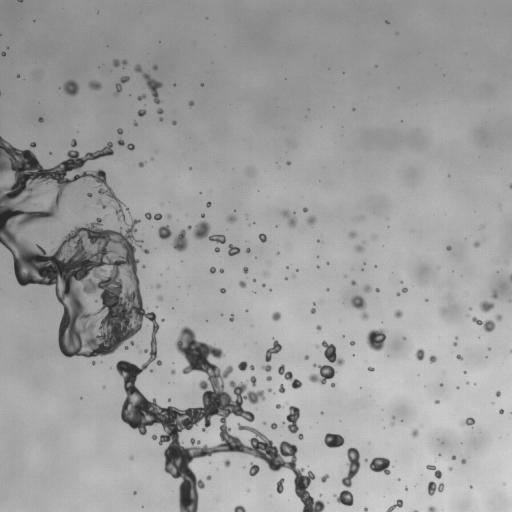droplet: (308, 340, 344, 384), (193, 219, 225, 243), (366, 329, 386, 351), (265, 338, 282, 362), (369, 457, 390, 474), (324, 433, 344, 447), (62, 80, 79, 96), (281, 210, 297, 227), (427, 481, 444, 495), (158, 225, 171, 239), (238, 361, 254, 371), (480, 301, 494, 312), (249, 462, 259, 476), (228, 244, 239, 255), (276, 478, 284, 493), (88, 80, 101, 89), (461, 417, 474, 426), (415, 348, 424, 360), (306, 215, 315, 225), (272, 312, 281, 321), (227, 215, 236, 223), (258, 233, 266, 242), (249, 376, 256, 386), (234, 505, 245, 511), (363, 284, 371, 292), (394, 310, 402, 318), (223, 459, 231, 467), (321, 474, 329, 482), (137, 109, 146, 116), (262, 364, 271, 371), (126, 143, 134, 150), (355, 245, 363, 252), (238, 280, 246, 287), (429, 355, 436, 363), (209, 266, 216, 273), (137, 94, 145, 100), (279, 385, 285, 393), (412, 429, 418, 437), (349, 231, 356, 237), (270, 423, 277, 429), (492, 290, 497, 298), (428, 506, 436, 511), (157, 108, 163, 114), (118, 139, 124, 145), (248, 167, 254, 173), (473, 241, 479, 247), (38, 117, 44, 122), (117, 128, 122, 134), (30, 142, 36, 147), (138, 162, 144, 167), (206, 201, 211, 207), (214, 247, 220, 252), (243, 267, 248, 273), (401, 287, 407, 292), (229, 315, 234, 321), (457, 354, 462, 360), (298, 433, 303, 439), (142, 249, 149, 253), (446, 245, 451, 250), (263, 271, 268, 276), (220, 288, 225, 293), (157, 295, 162, 300), (310, 308, 315, 313), (496, 315, 501, 320), (316, 325, 321, 330), (495, 391, 500, 396), (206, 475, 211, 480), (349, 341, 355, 345), (276, 404, 282, 408), (153, 65, 157, 70), (189, 101, 194, 105), (87, 193, 92, 197), (303, 207, 307, 212), (351, 280, 355, 285), (368, 367, 373, 371), (171, 369, 175, 374), (266, 376, 271, 380), (461, 459, 466, 463), (167, 214, 171, 218), (246, 248, 250, 252), (156, 284, 160, 288), (375, 288, 379, 292), (453, 342, 457, 346), (304, 355, 308, 359), (331, 383, 335, 387), (499, 409, 503, 413), (172, 120, 175, 125), (1, 52, 5, 55), (134, 121, 137, 125), (130, 341, 134, 344), (390, 422, 393, 426), (451, 456, 455, 459), (364, 507, 367, 511), (509, 183, 511, 188), (159, 117, 162, 120), (287, 161, 290, 164), (201, 214, 204, 217), (220, 269, 223, 272), (397, 292, 400, 295), (92, 361, 95, 364), (268, 388, 271, 391), (435, 400, 438, 403), (133, 491, 136, 494), (18, 0, 22, 2), (352, 108, 355, 110), (326, 262, 329, 264), (252, 279, 255, 281), (262, 284, 265, 286), (125, 346, 127, 349), (150, 369, 152, 372), (392, 416, 394, 419), (449, 467, 451, 470), (386, 21, 388, 23), (17, 75, 19, 77), (359, 217, 361, 219), (277, 252, 279, 254), (285, 277, 287, 279), (326, 288, 328, 290), (425, 299, 427, 301), (162, 319, 164, 321), (464, 371, 466, 373), (440, 383, 442, 385), (168, 399, 170, 401), (263, 422, 265, 424), (282, 422, 284, 424), (130, 457, 132, 459), (365, 459, 367, 461), (398, 478, 400, 480), (405, 487, 407, 489), (470, 486, 472, 488), (319, 494, 321, 496)
ligament: (0, 136, 323, 511), (334, 447, 360, 506), (134, 64, 162, 103), (278, 364, 302, 388), (172, 225, 191, 251), (351, 295, 368, 319), (286, 406, 300, 433), (472, 317, 495, 332), (115, 76, 129, 94), (426, 465, 442, 478), (386, 499, 403, 511), (144, 212, 162, 220), (112, 59, 127, 66), (96, 199, 106, 208), (510, 274, 511, 281), (413, 510, 417, 511)
